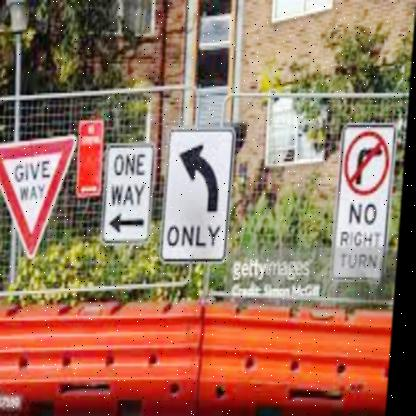No right turn: (345, 126, 395, 198)
